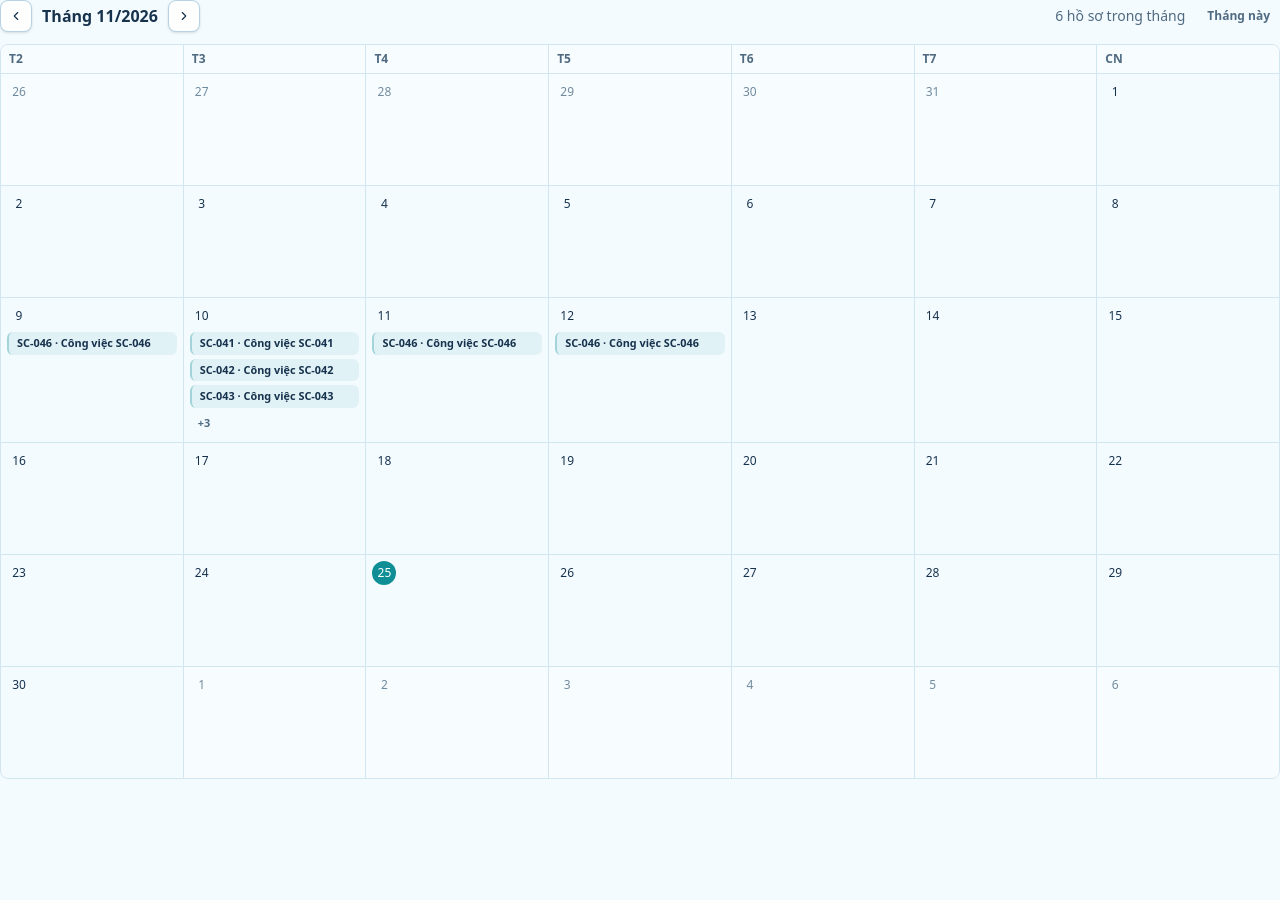
it: RepairScheduleMonthView (B4-S1) › lists three records a day and opens the rest behind "+n"
The image size is (1280, 900).
Expected: the text "6 hồ sơ trong tháng" is shown, x1=1055 y1=6 x2=1185 y2=26
Click the button named "Xem thêm 3 hồ sơ ngày 10/11" at (204, 424), box x1=190 y1=412 x2=218 y2=436
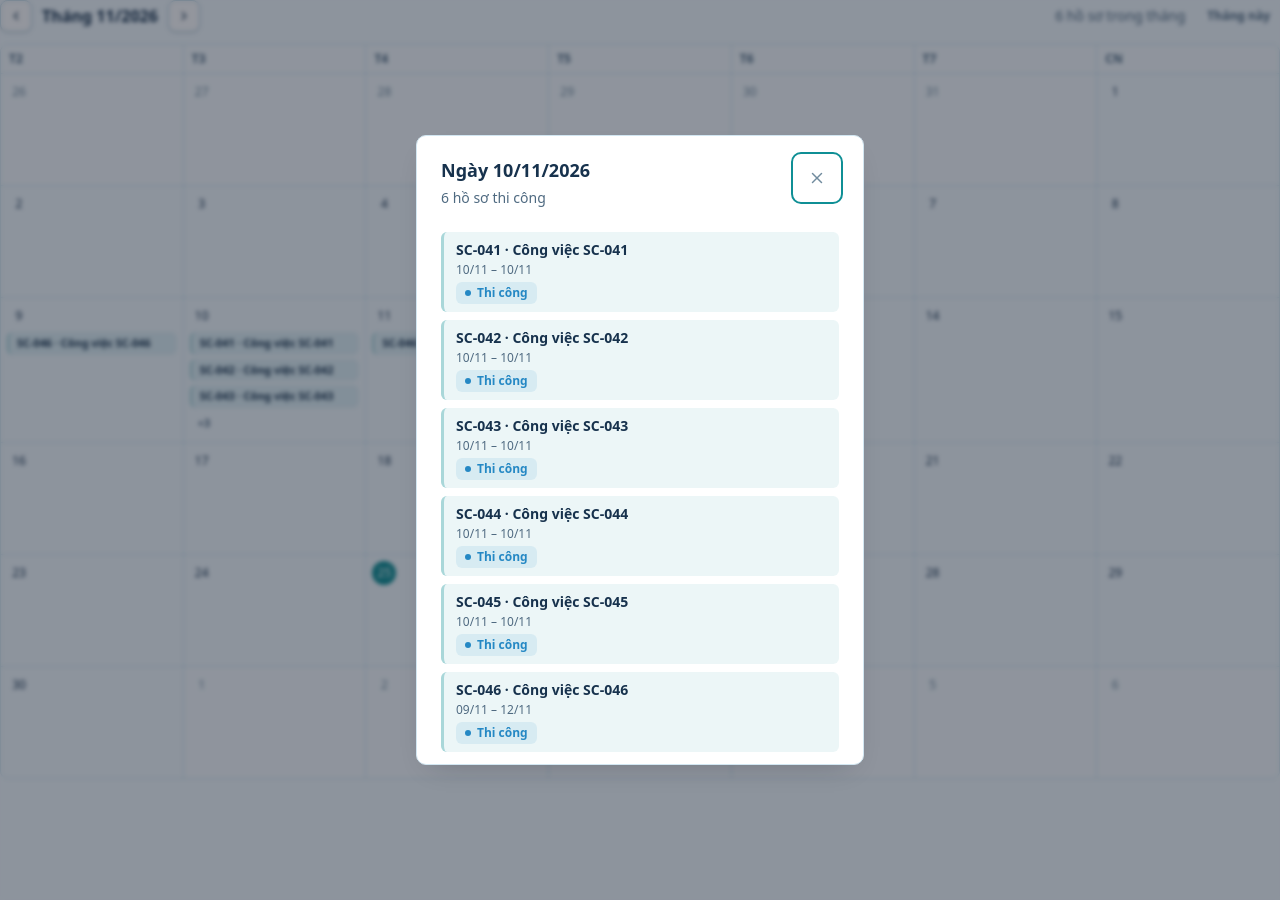
Result: the button named "Đóng" is shown at x1=795 y1=156 x2=839 y2=200
